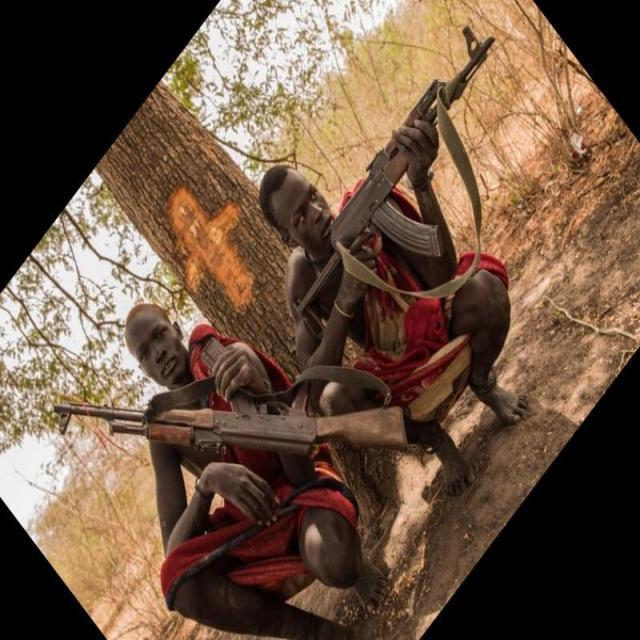weapon: (295, 22, 497, 342), (53, 403, 409, 452)
